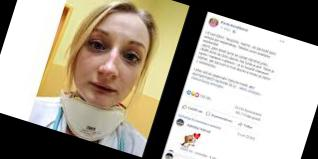mask_weared_incorrect: (69, 26, 151, 128)
